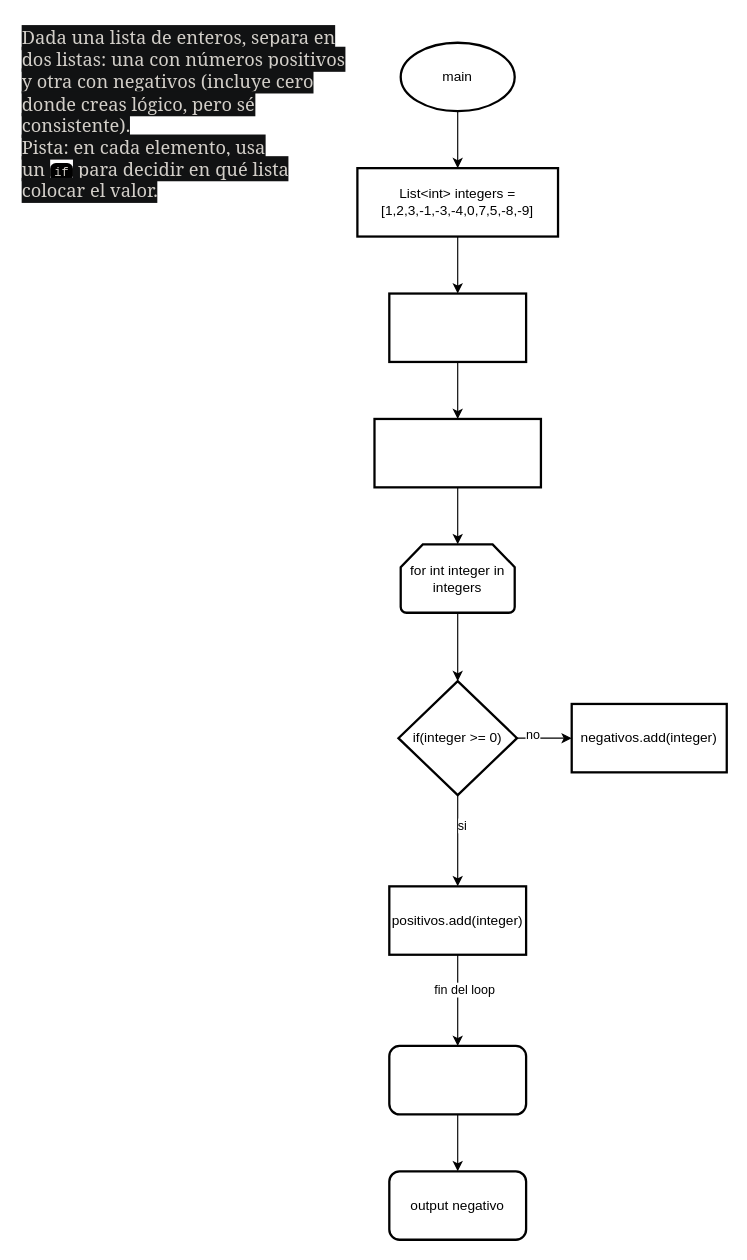
Some shapes in this 747 by 1260 pixel diagram are drawn without their labels. Each missing label, with the box of its shape:
List<int> negativos = []: (373, 417, 542, 488)
List<int> positivos = []: (388, 292, 527, 363)
output positivos: (388, 1044, 527, 1115)
